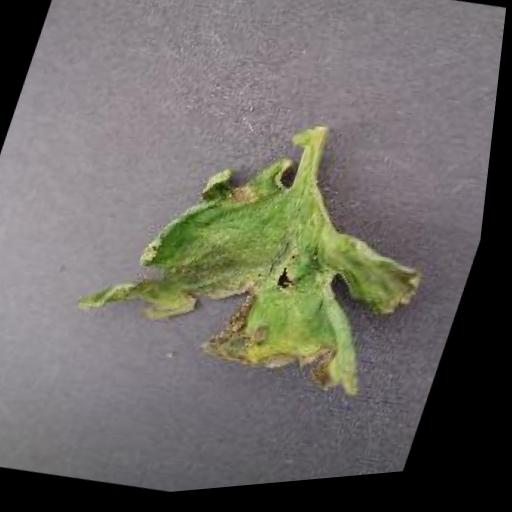Late Blight: (58, 110, 464, 434)
